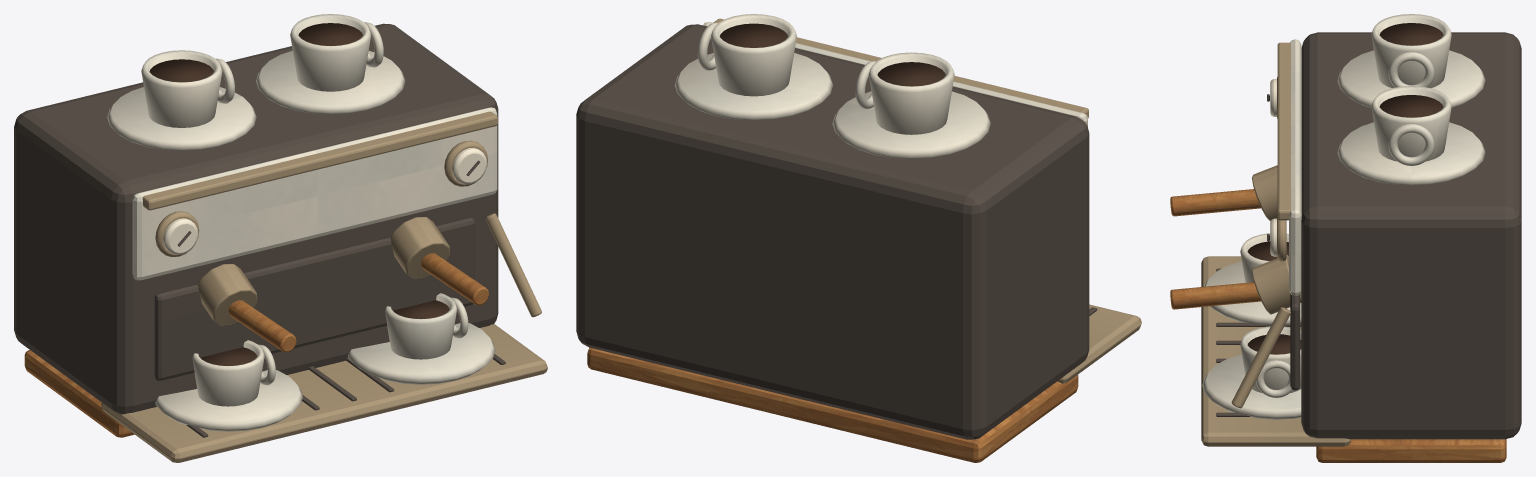
Rendered from WC_CAFE_Espresso_A.glb.
The picture shows the model from 3 angles, left to right: view 1: azimuth 30°, elevation 25°; view 2: azimuth 150°, elevation 25°; view 3: azimuth 270°, elevation 25°; orthographic projection. The views are drawn at different scales.
Parts seen in each view (by area): view 1: WC_CAFE_Espresso_A_PolishedRenderMesh; view 2: WC_CAFE_Espresso_A_PolishedRenderMesh; view 3: WC_CAFE_Espresso_A_PolishedRenderMesh.
Boxes of the visible parts, bbox=[...] form: WC_CAFE_Espresso_A_PolishedRenderMesh: bbox=[14, 14, 547, 462]; WC_CAFE_Espresso_A_PolishedRenderMesh: bbox=[576, 14, 1141, 462]; WC_CAFE_Espresso_A_PolishedRenderMesh: bbox=[1170, 14, 1521, 462].
Bounding box in the file's own units: 0.8903 × 0.6818 × 0.7019.
Materials: 6 (2 with a texture image).
